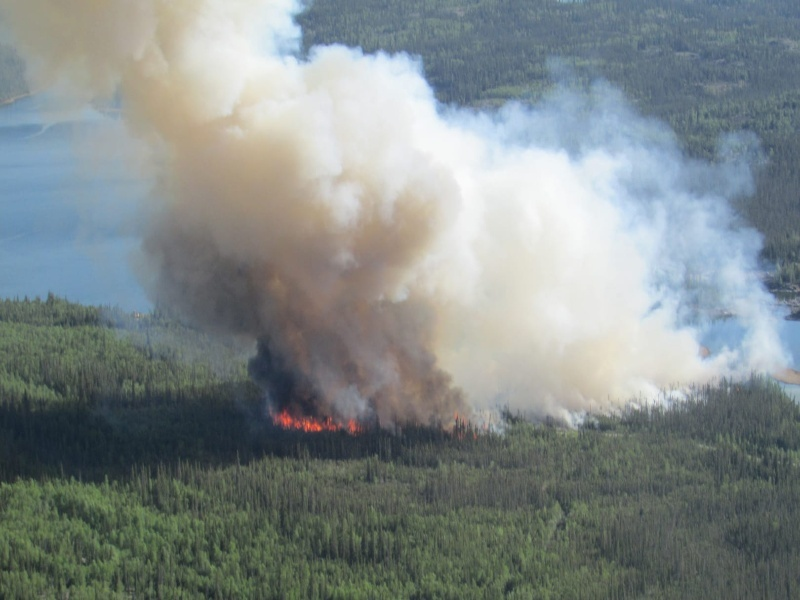smoke: (116, 2, 574, 376)
